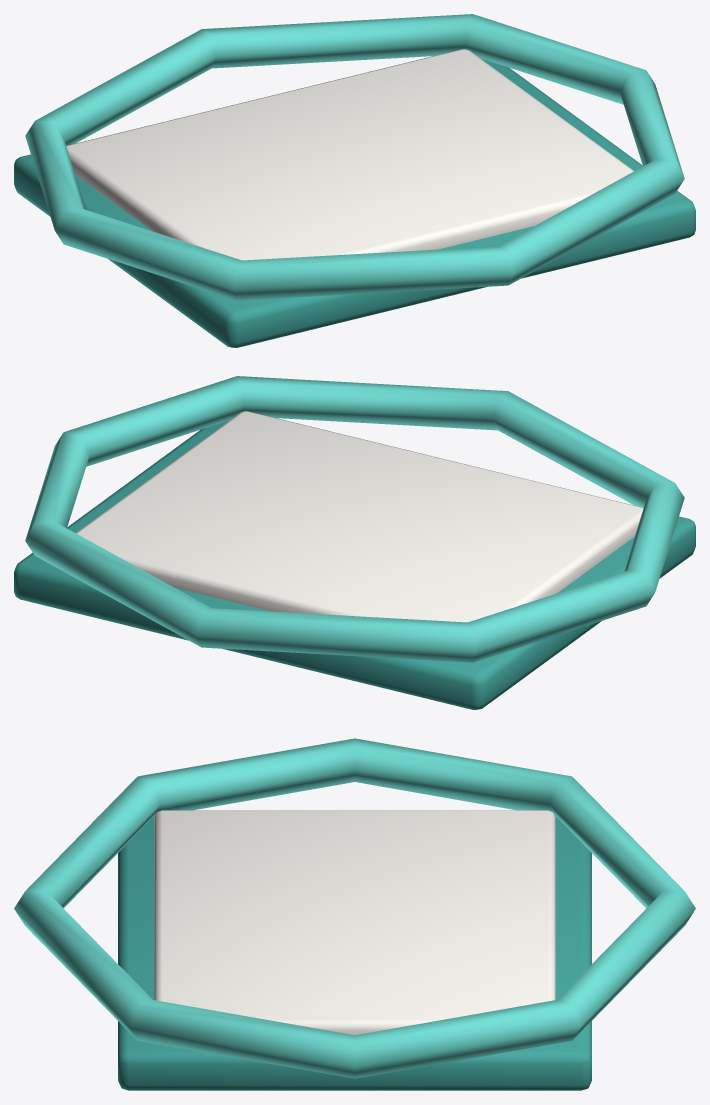
The model's file is pickup_tray.glb.
3 renders of one model, top to bottom at view 1: azimuth 30°, elevation 25°; view 2: azimuth 150°, elevation 25°; view 3: azimuth 270°, elevation 25°, orthographic. The views are drawn at different scales.
Visible parts, largest first — view 1: Cream, Mint, MintDark; view 2: Cream, Mint, MintDark; view 3: Cream, Mint, MintDark.
Part boxes in pixels (box(x1,y1,x2,y2)): Cream: box(66, 49, 633, 260); Mint: box(25, 14, 684, 300); MintDark: box(14, 56, 695, 347); Cream: box(76, 411, 643, 622); Mint: box(25, 376, 684, 662); MintDark: box(14, 418, 695, 709); Cream: box(154, 810, 555, 1034); Mint: box(14, 738, 695, 1078); MintDark: box(118, 817, 591, 1090).
Bounding box in the file's own units: 0.4092 × 0.0484 × 0.3741.
